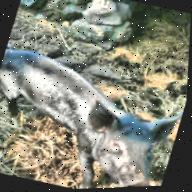boar: (0, 38, 190, 192)
